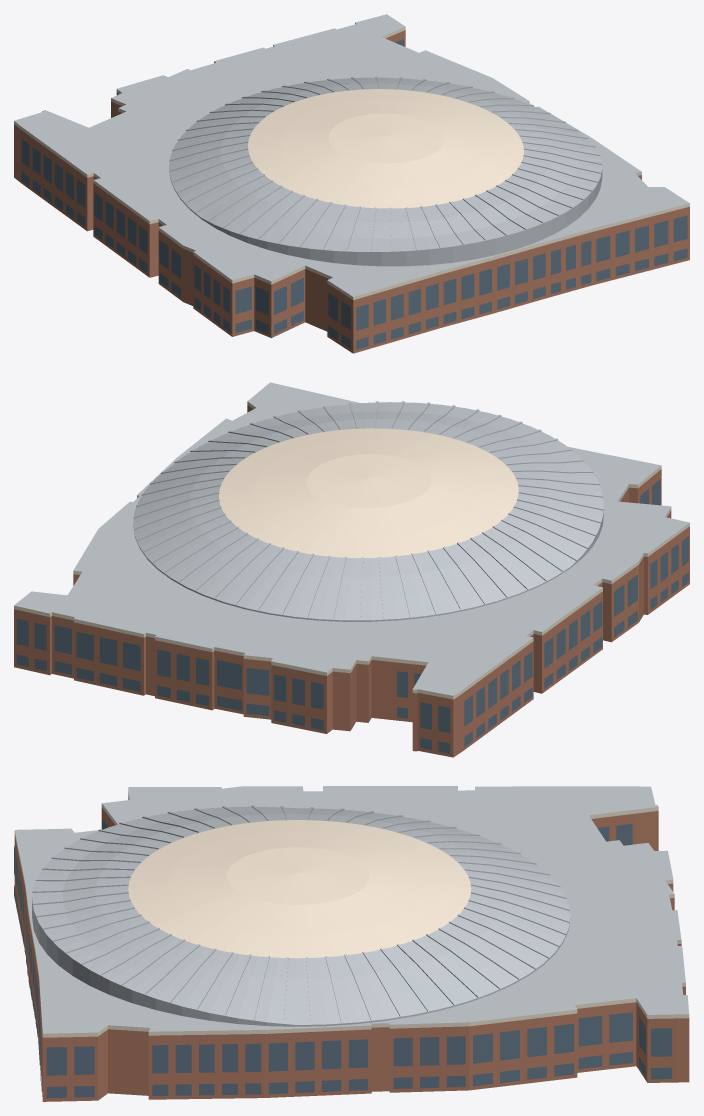
The model's file is det-little-caesars-arena.glb.
3 views of the same model, one above another, from view 1: azimuth 30°, elevation 25°; view 2: azimuth 150°, elevation 25°; view 3: azimuth 270°, elevation 25° (orthographic). The views are drawn at different scales.
Parts seen in each view (by area): view 1: Little Caesars Arena; view 2: Little Caesars Arena; view 3: Little Caesars Arena.
Boxes of the visible parts, bbox=[...] form: Little Caesars Arena: bbox=[14, 14, 689, 353]; Little Caesars Arena: bbox=[14, 382, 689, 757]; Little Caesars Arena: bbox=[14, 786, 689, 1101].
Size of the model in its own units: 160 by 34 by 184.
